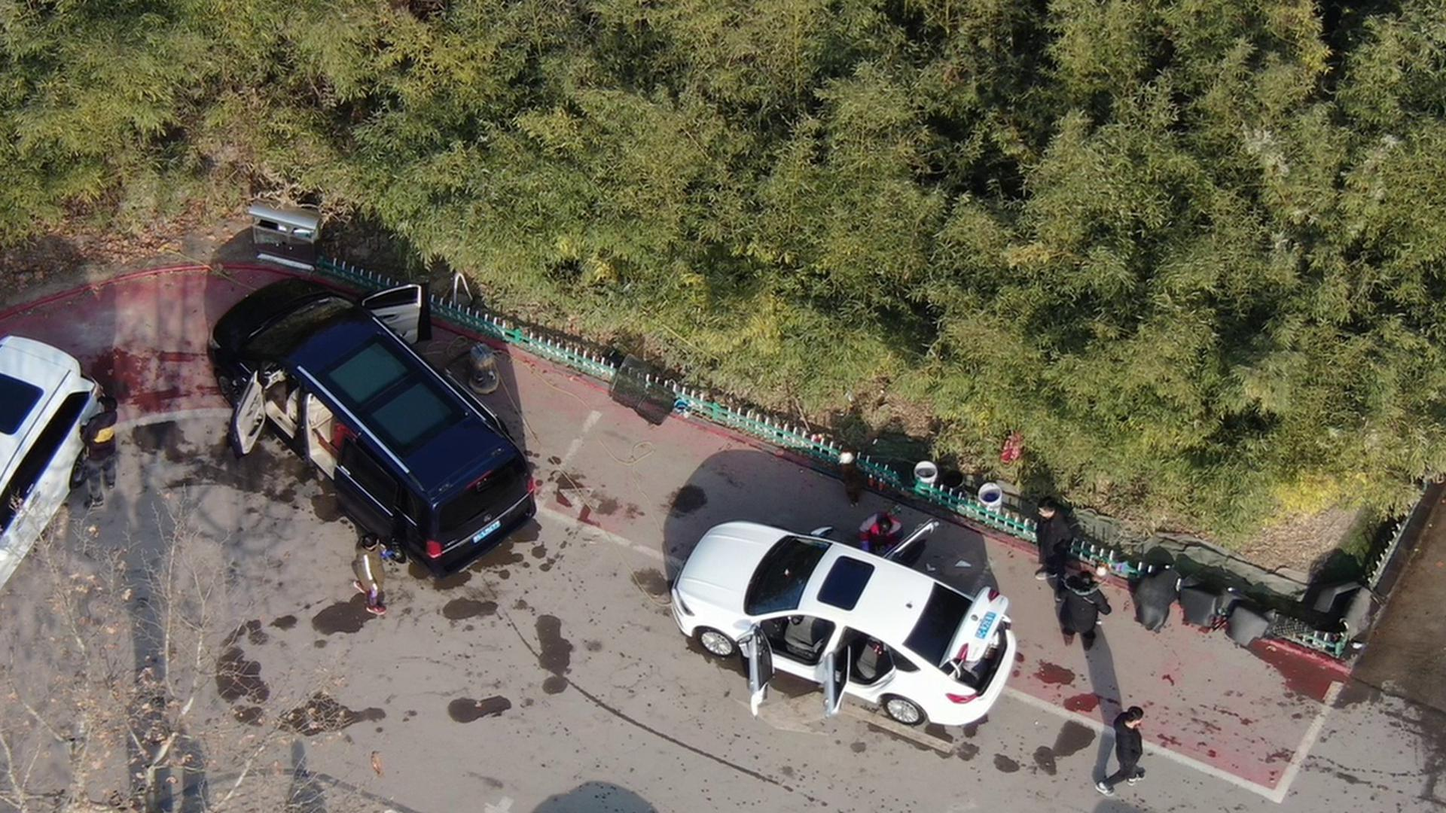human: (349, 505, 413, 612), (78, 399, 130, 505), (1092, 693, 1146, 792), (1053, 572, 1112, 656), (1024, 501, 1073, 582), (853, 510, 910, 562)
